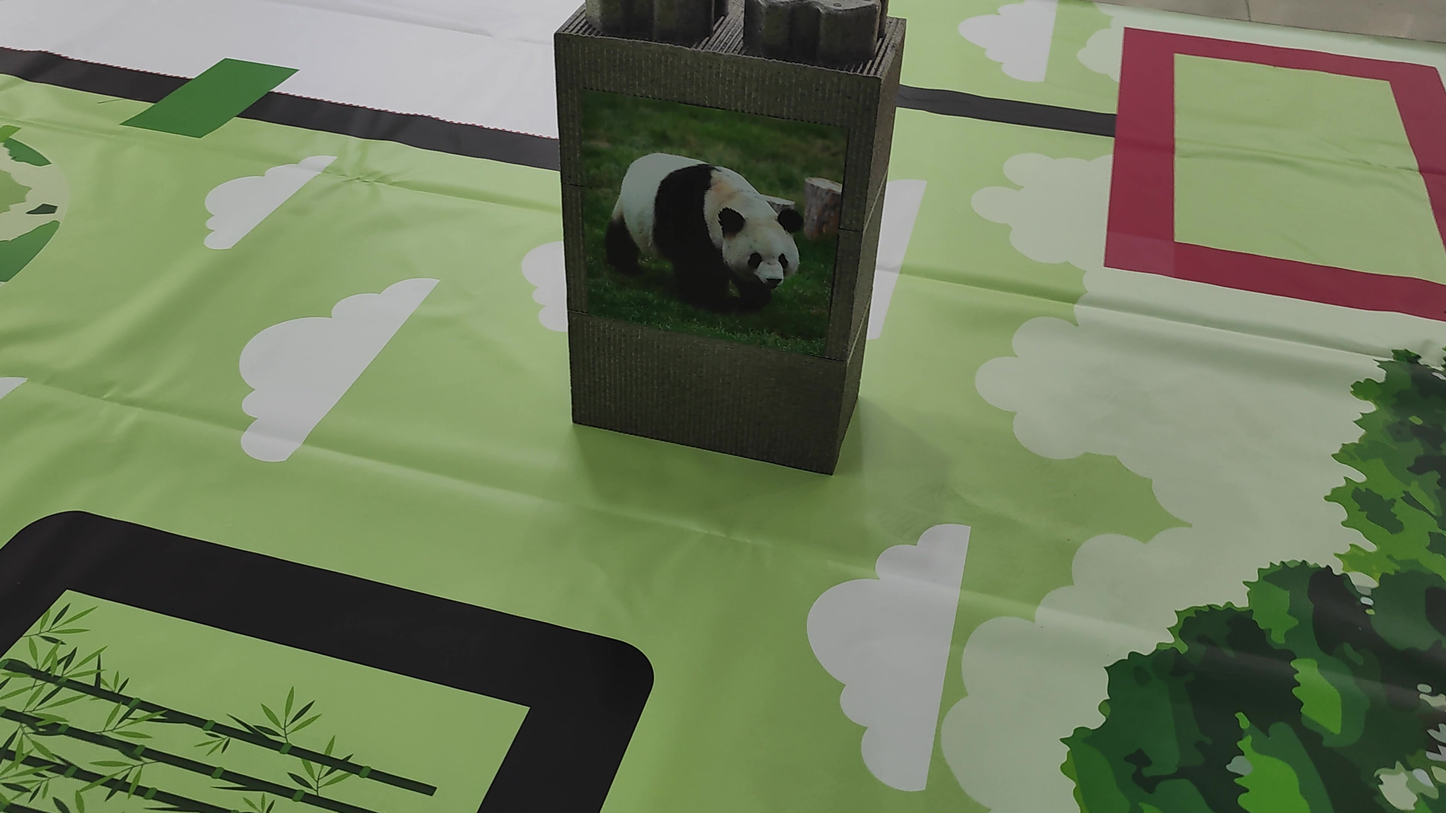panda: (592, 94, 835, 345)
